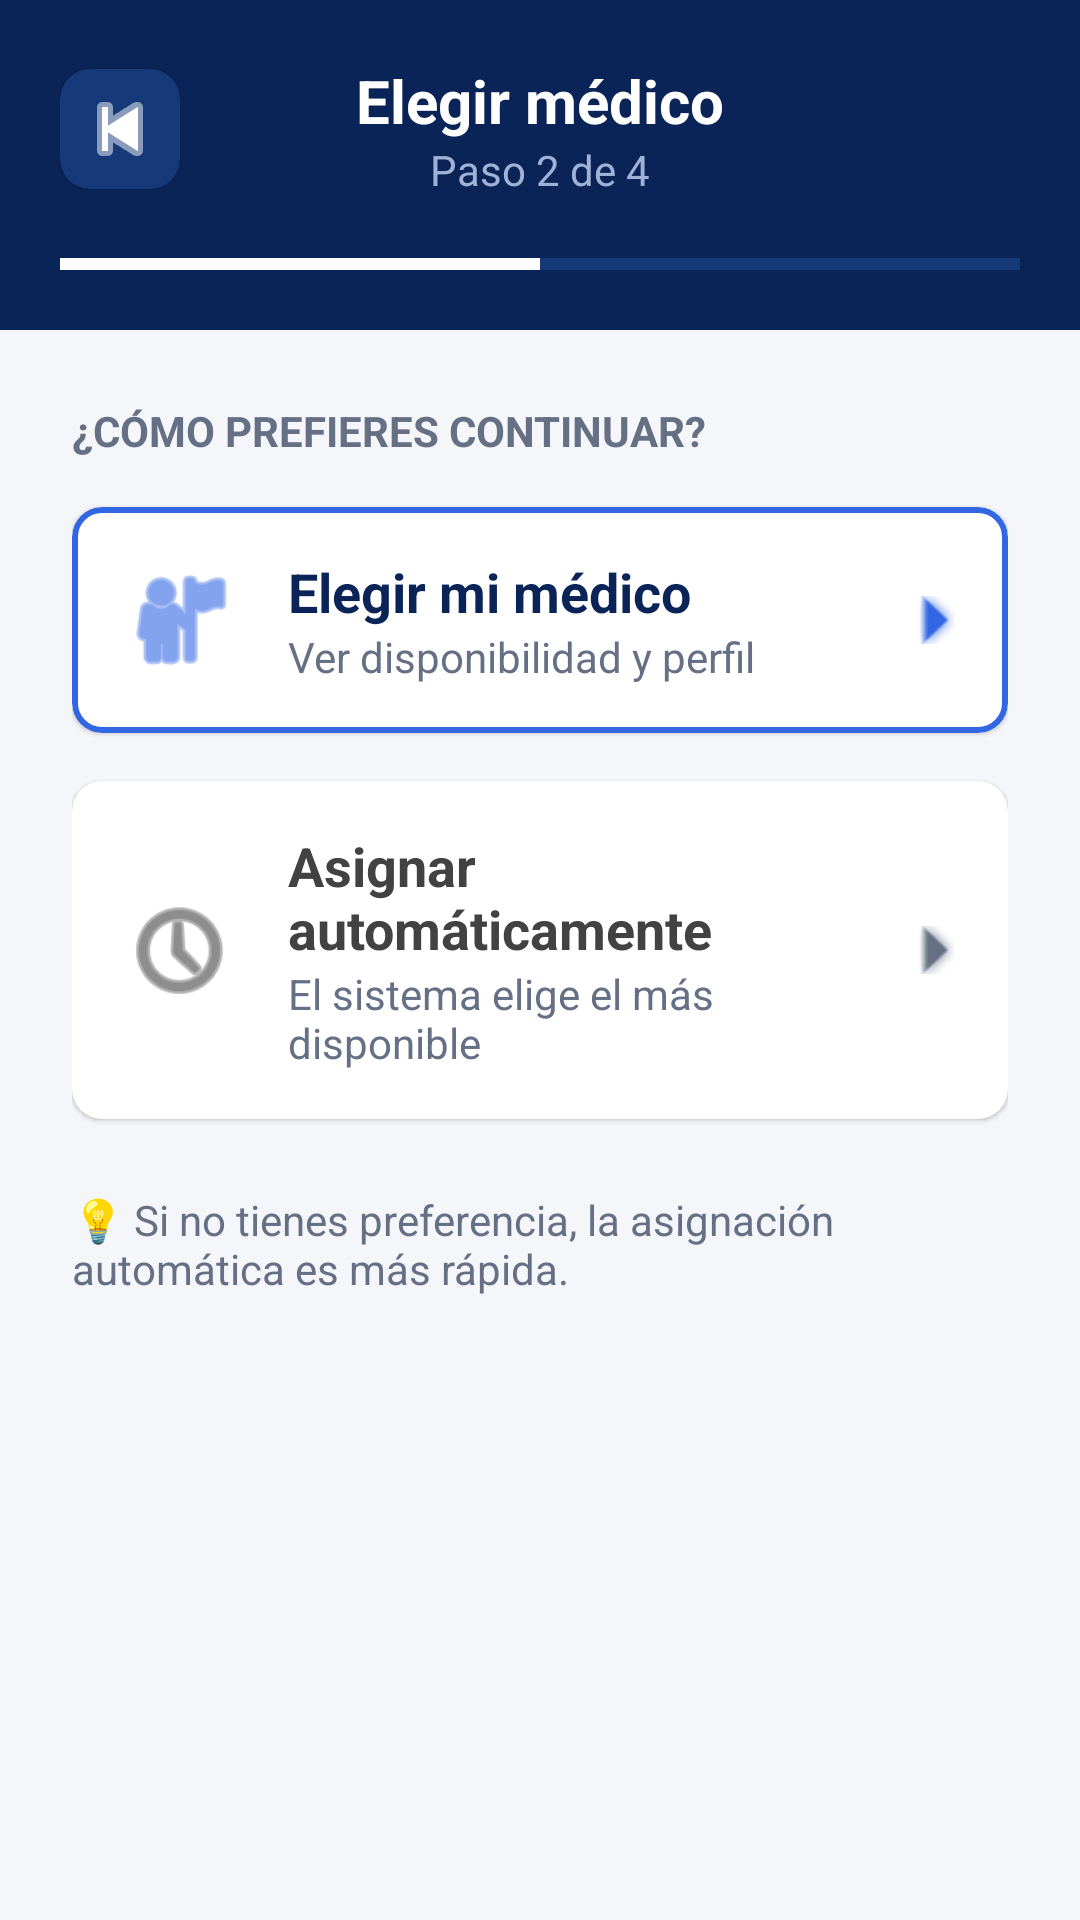

Screen size 1080x1920. Icon name, then its box in pixels as (x1, y1, x2, y2):
myplaces: (136, 575, 226, 665)
previous: (97, 102, 143, 156)
recent history: (136, 907, 223, 994)
